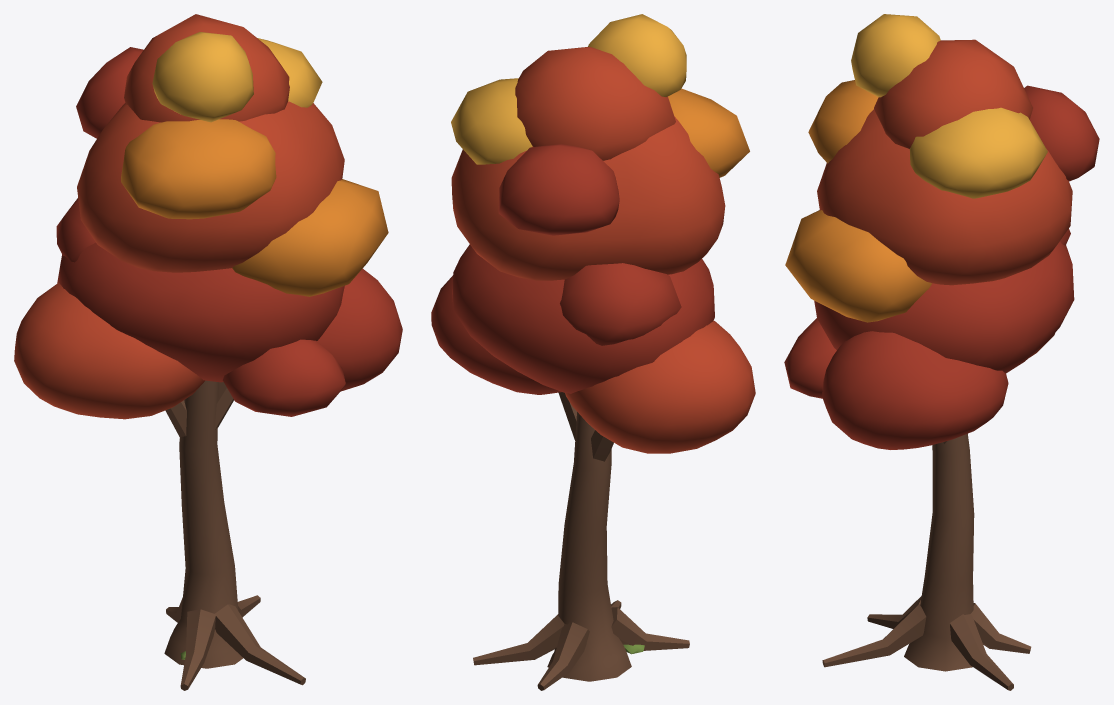
Rendered from maple_red.glb.
3 views of the same model, side by side, from view 1: azimuth 30°, elevation 25°; view 2: azimuth 150°, elevation 25°; view 3: azimuth 270°, elevation 25° (orthographic). The views are drawn at different scales.
Parts seen in each view (by area): view 1: foliage, trunk; view 2: foliage, trunk; view 3: foliage, trunk.
Part boxes in pixels (left/top/right/bottom): foliage: left=14, top=14, right=402, bottom=419; trunk: left=164, top=380, right=305, bottom=690; foliage: left=431, top=14, right=755, bottom=453; trunk: left=473, top=392, right=689, bottom=690; foliage: left=784, top=14, right=1099, bottom=449; trunk: left=822, top=433, right=1031, bottom=690.
Size of what is drawn, in the model's own units: 3.39 by 6.18 by 2.83.
